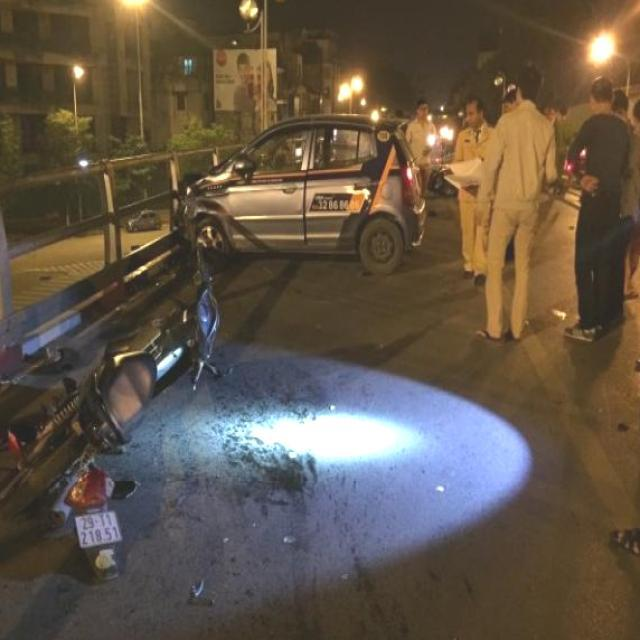accident: (0, 265, 241, 573), (150, 87, 443, 277)
